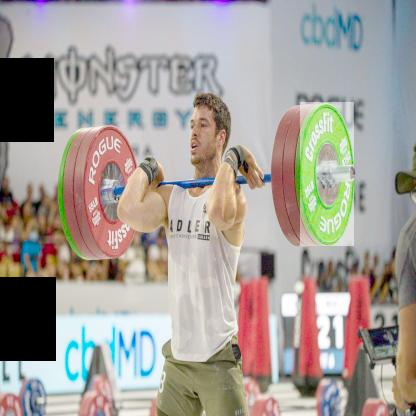barbell: (83, 125, 143, 260), (301, 104, 355, 248)
